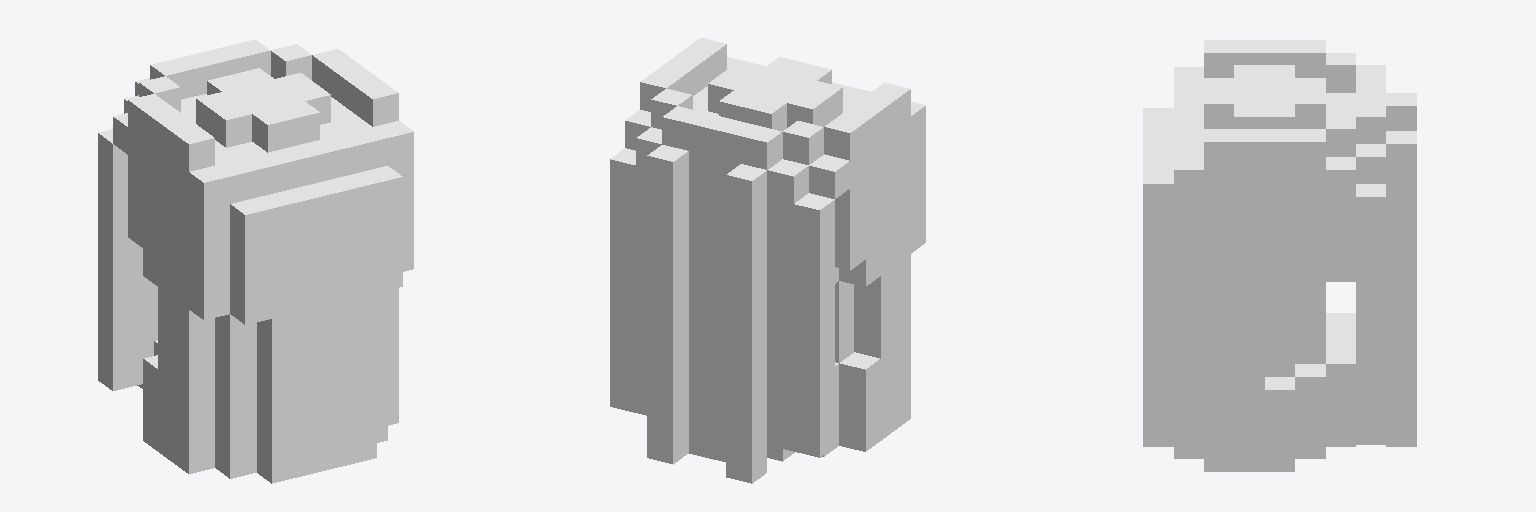
The model's file is char-41-chest_med_hvy_3c_du.obj.
3 renders of one model, left to right at view 1: azimuth 30°, elevation 25°; view 2: azimuth 150°, elevation 25°; view 3: azimuth 270°, elevation 25°, orthographic.
Visible parts, largest first — view 1: chest_med_hvy_3c_du; view 2: chest_med_hvy_3c_du; view 3: chest_med_hvy_3c_du.
Boxes of the visible parts, <box> form: chest_med_hvy_3c_du: <box>98,39,413,483</box>; chest_med_hvy_3c_du: <box>610,38,925,483</box>; chest_med_hvy_3c_du: <box>1143,40,1416,471</box>.
Size of the model in its own units: 0.8 by 1.2 by 0.9.